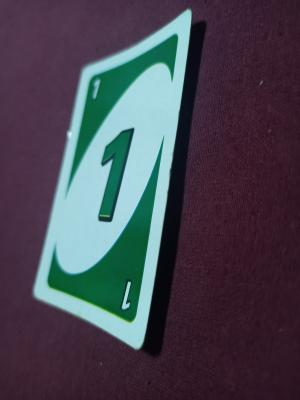num_1: (97, 129, 147, 236), (110, 270, 140, 315), (86, 75, 110, 116)
